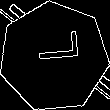L_W: (27, 39, 80, 74)
